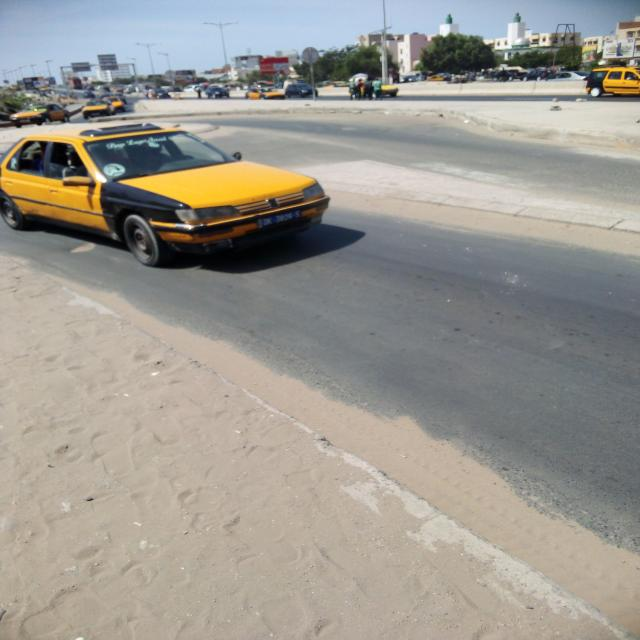particulier: (286, 84, 314, 99), (206, 87, 231, 100)
taxi: (1, 125, 329, 266), (588, 69, 640, 97), (11, 105, 71, 129), (83, 101, 116, 120), (248, 89, 286, 100), (104, 97, 128, 114)
